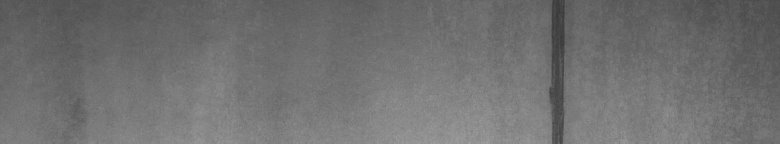hd: (543, 4, 570, 136)
